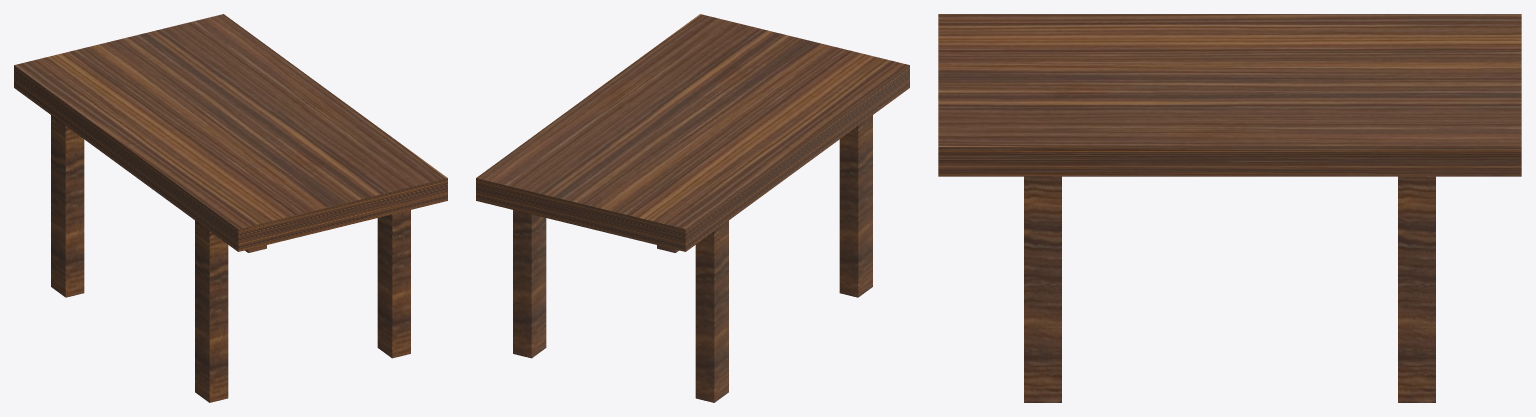
Rendered from Stolik2.fbx.
3 views of the same model, side by side, from view 1: azimuth 30°, elevation 25°; view 2: azimuth 150°, elevation 25°; view 3: azimuth 270°, elevation 25° (orthographic). The views are drawn at different scales.
Parts seen in each view (by area): view 1: Cube; view 2: Cube; view 3: Cube.
Part boxes in pixels (x1=…): Cube: x1=14, y1=14, x2=447, y2=402; Cube: x1=476, y1=14, x2=909, y2=402; Cube: x1=938, y1=14, x2=1521, y2=402.
Bounding box in the file's own units: 141 × 128 × 261.
